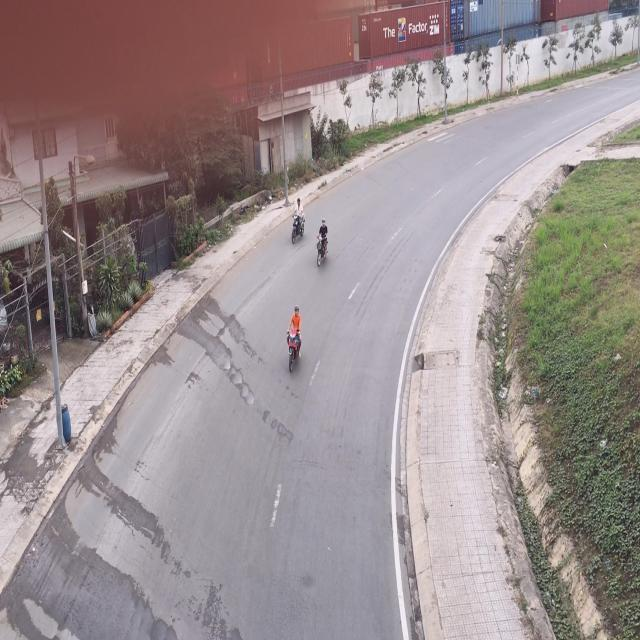motorbike: (286, 308, 303, 375), (314, 219, 330, 272), (290, 198, 305, 244)
